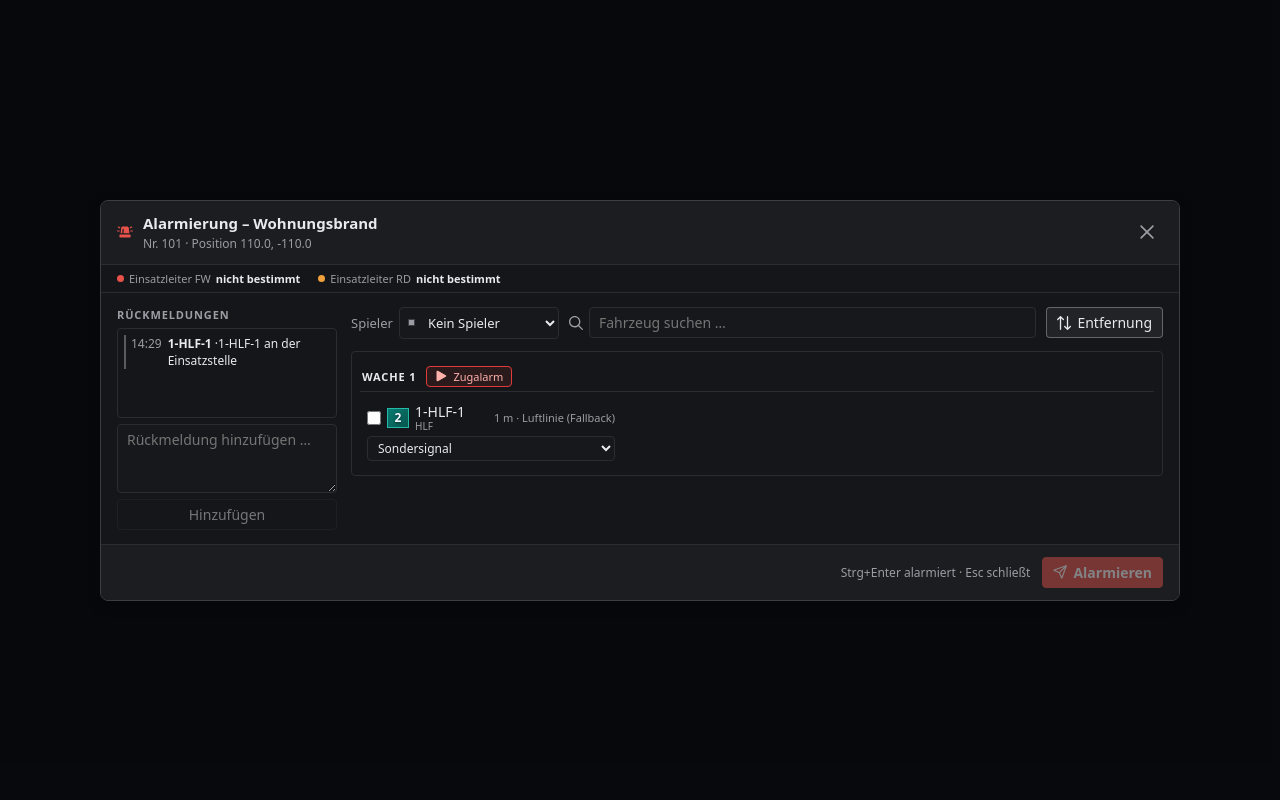
Test: Alarmierungsdialog › fügt eine Rückmeldung zum Einsatz hinzu
In the text box with placeholder "Rückmeldung hinzufügen …": (227, 458) 117,424 -> 337,492, type "Bewohner vermisst"
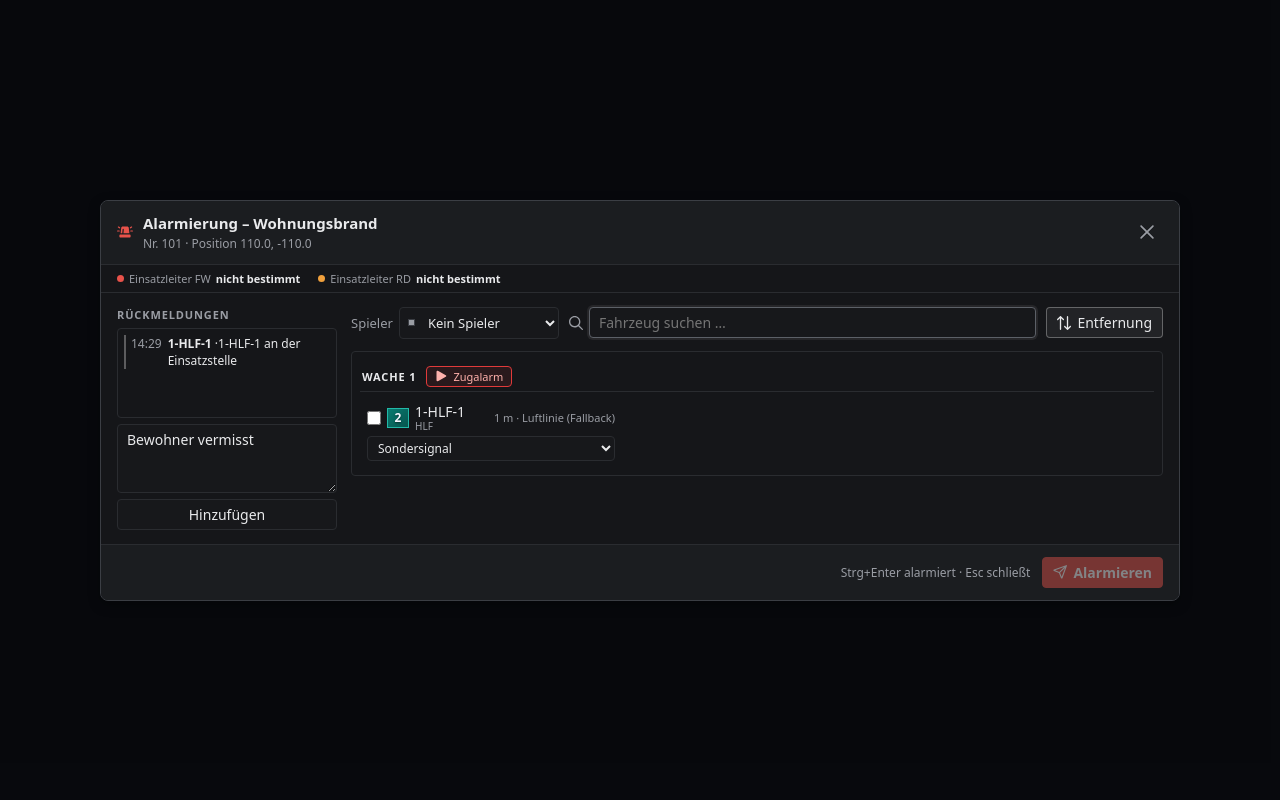
Click the button "Hinzufügen": (227, 514) 117,498 -> 337,530
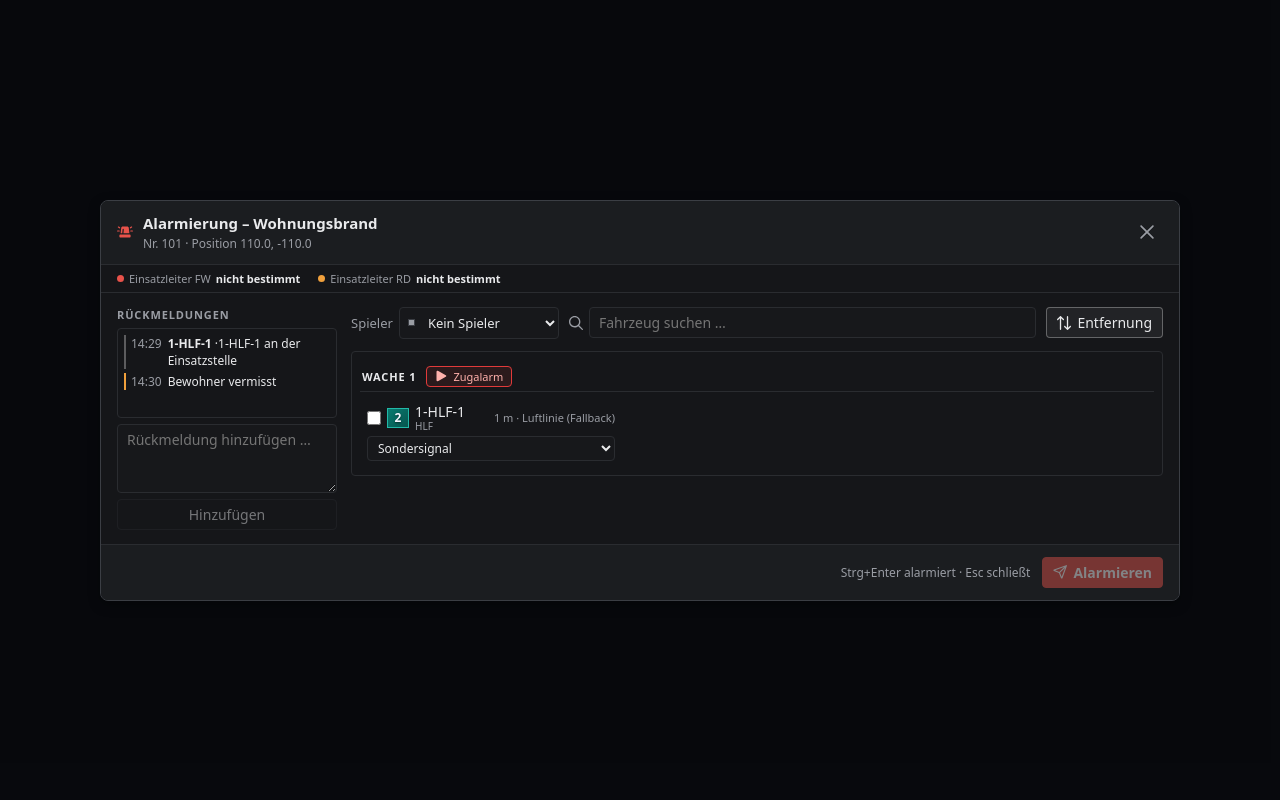
Expected: the text "1-HLF-1 ·1-HLF-1 an der Einsatzstelle" is shown, 168,334 -> 300,368
Expected: the text "Bewohner vermisst" is shown, 168,372 -> 276,390
